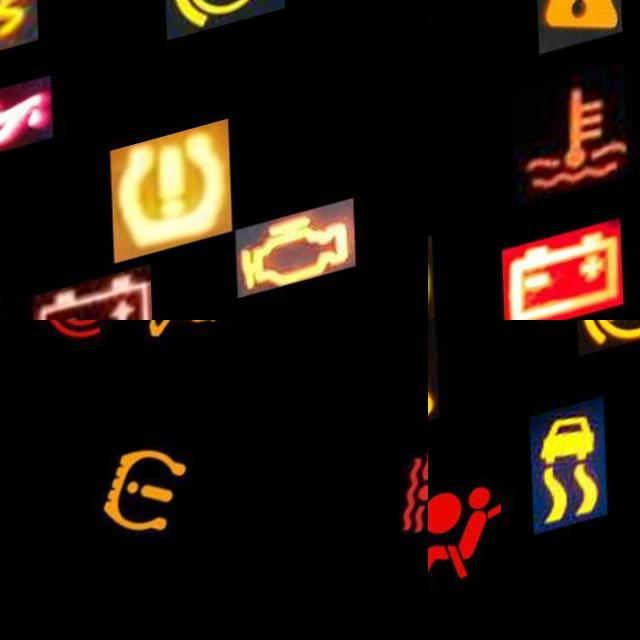Central Warning lamp: (533, 0, 619, 81)
Engine cooling system: (509, 92, 630, 233)
